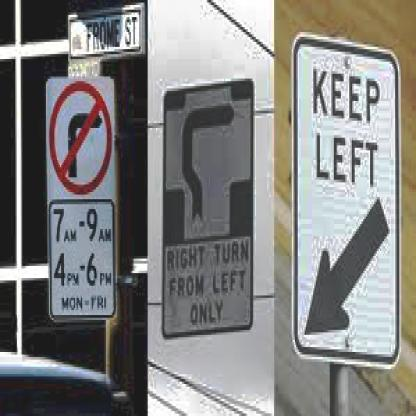No right turn: (50, 81, 116, 196)
